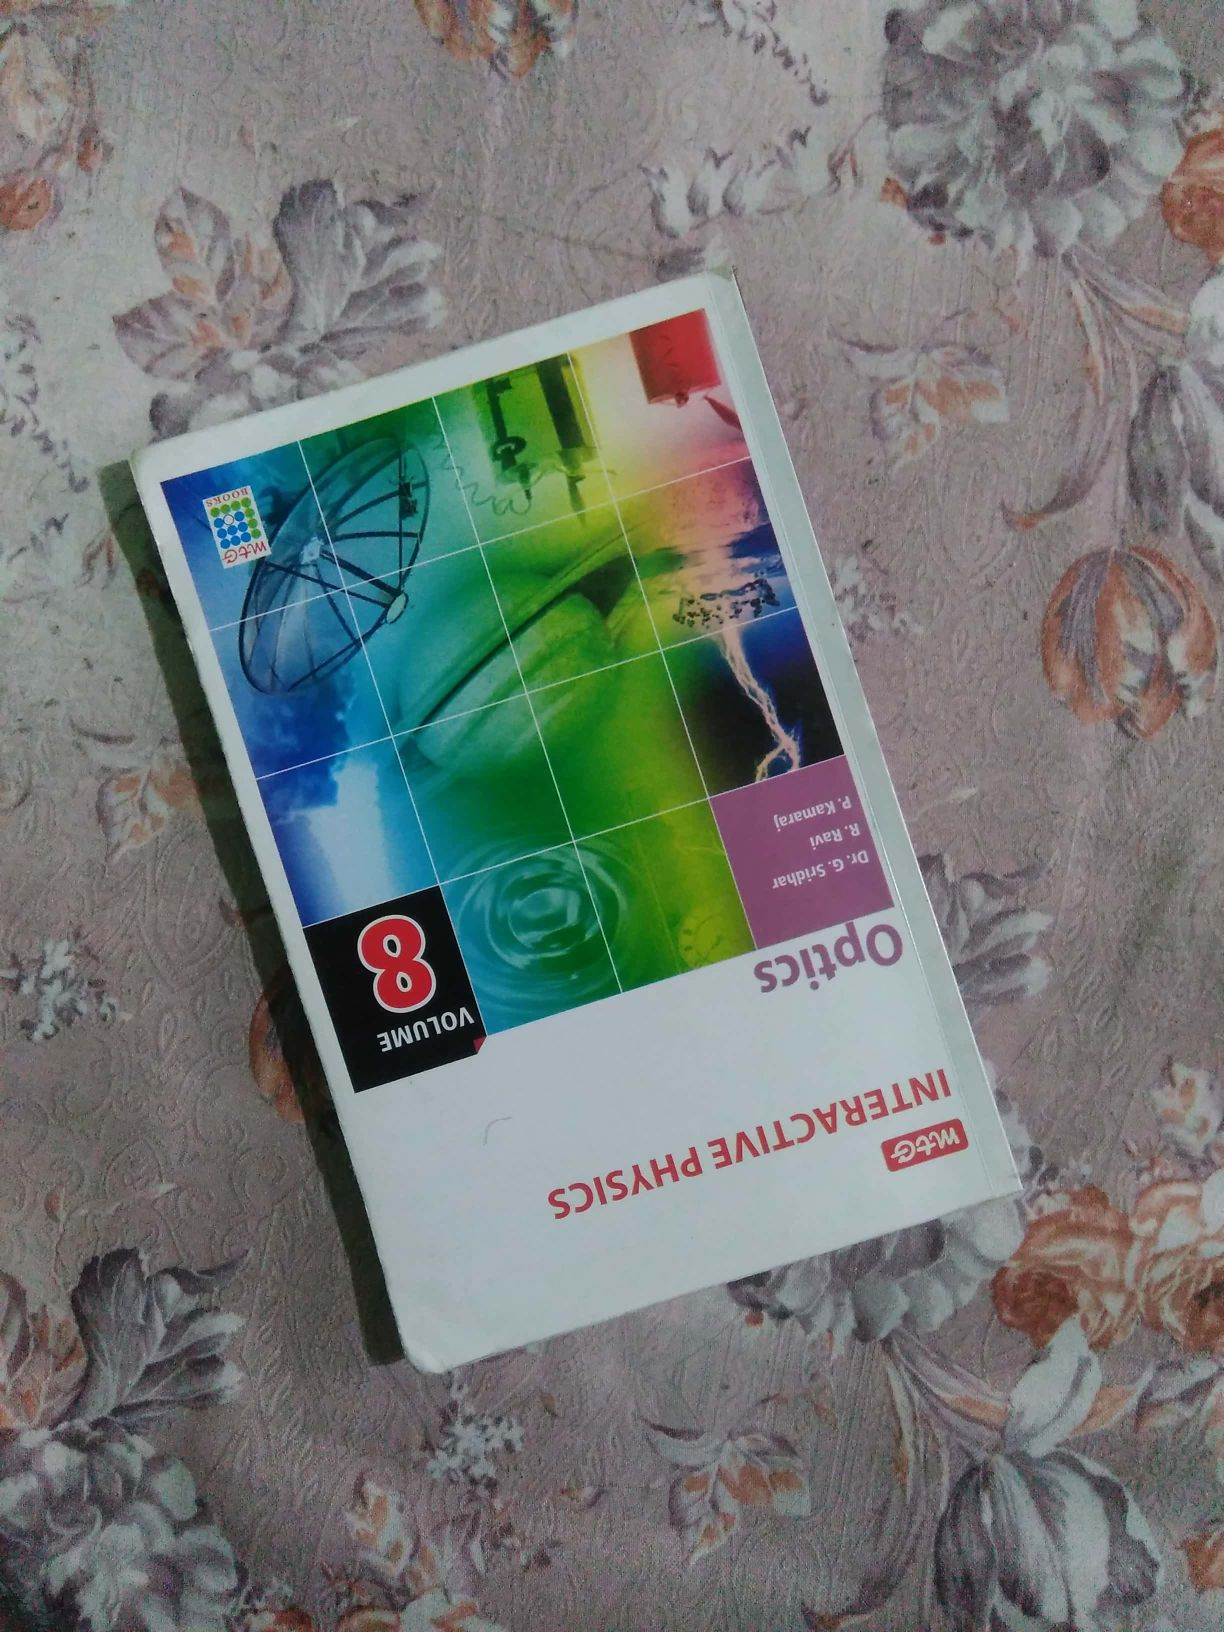optics: (109, 298, 993, 1344)
